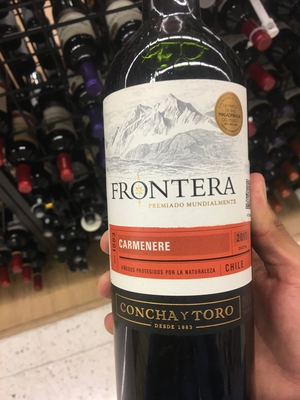frontera carmenere: (90, 31, 263, 342)
